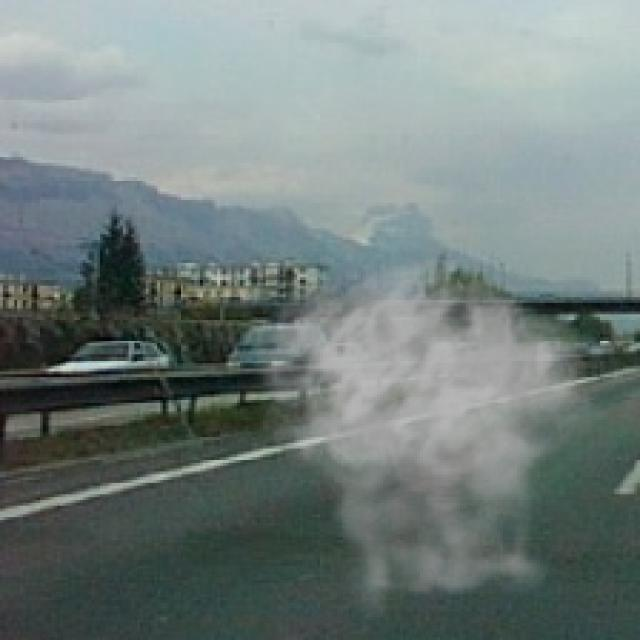Smoke: (242, 257, 618, 629)
